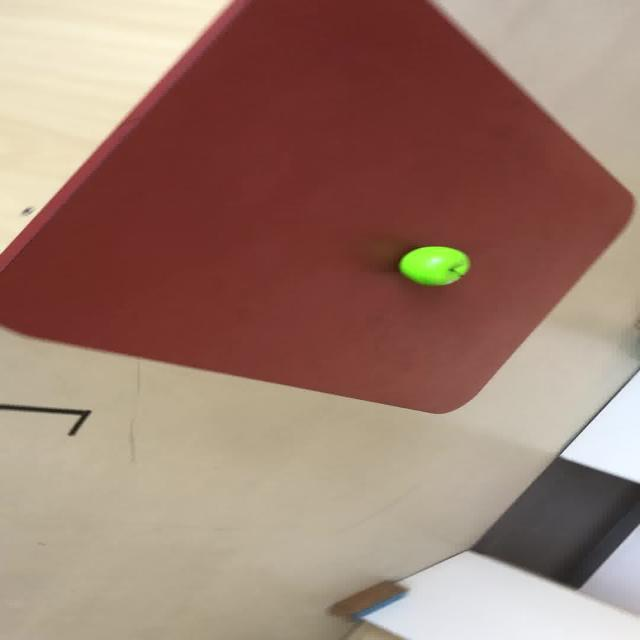apple: (396, 245, 470, 286)
